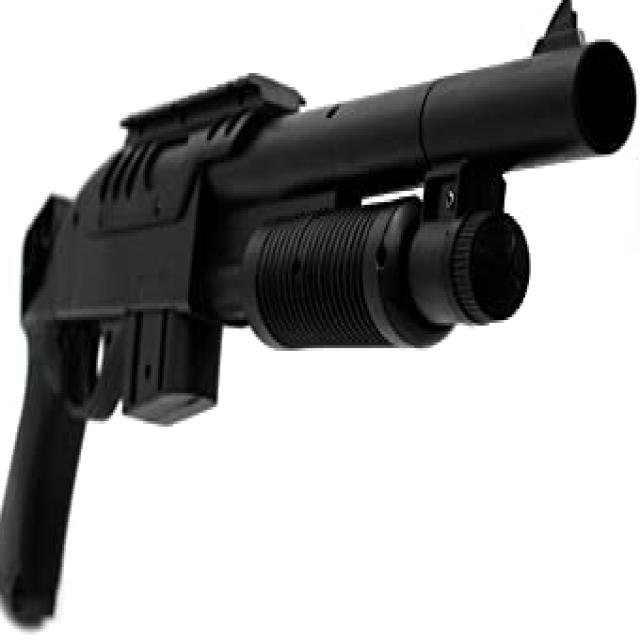Weapon: (0, 0, 636, 623)
